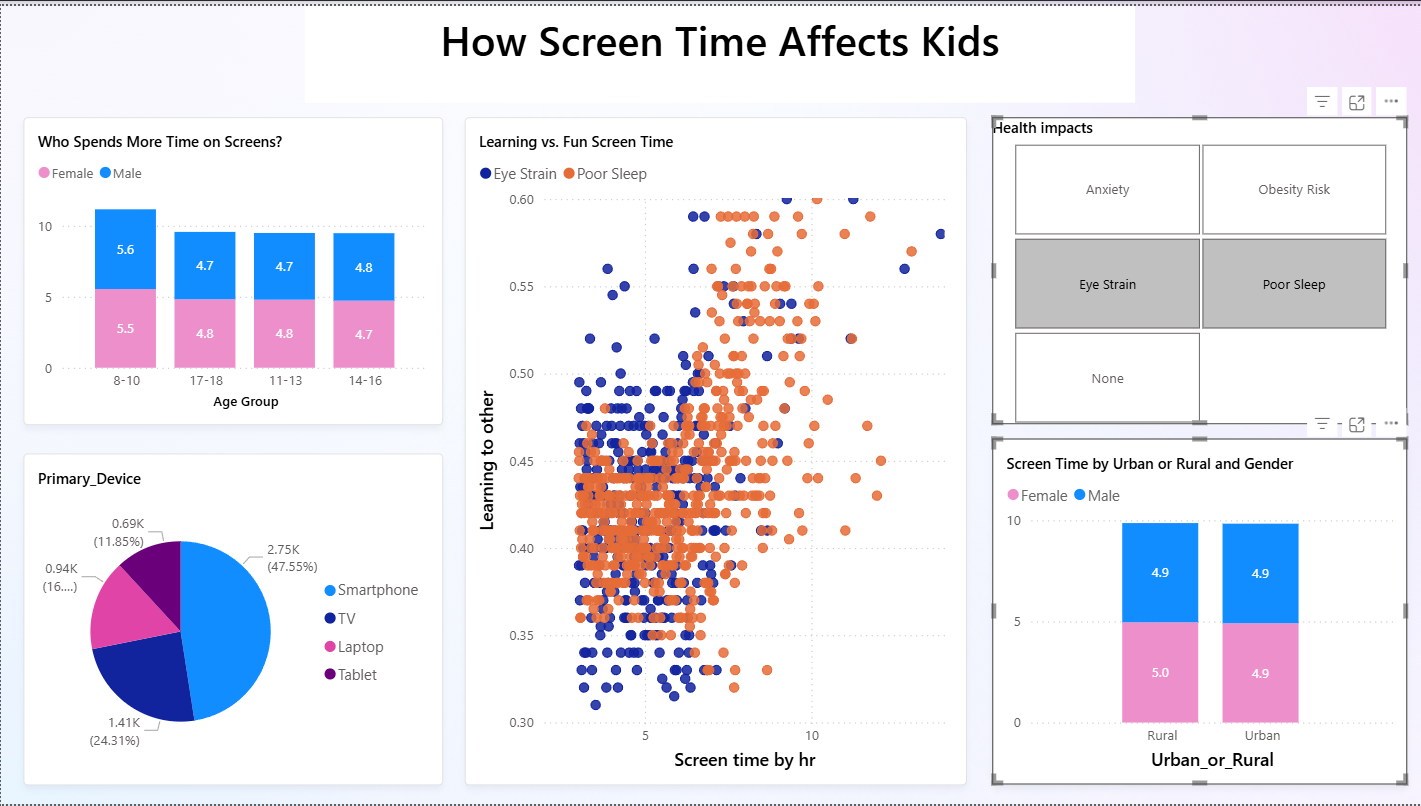

The page's visual inventory and layout, read from the dashboard file:
{"tool":"powerbi","page":{"name":"Page 1","canvas":[1280,720],"ordinal":0},"visuals":[{"type":"columnChart","title":"Who Spends More Time on Screens?","fields":{"Category":["Indian_Kids_Screen_Time.Age Group"],"Y":["Indian_Kids_Screen_Time.Avg Screen Time"],"Series":["Indian_Kids_Screen_Time.Gender"]},"box":[20.3,100.3,378.7,277.3],"z":0},{"type":"pieChart","title":"Primary_Device","fields":{"Category":["Indian_Kids_Screen_Time.Primary_Device"],"Y":["CountNonNull(Indian_Kids_Screen_Time.Primary_Device)"]},"box":[20.6,403.4,378.7,299.1],"z":1000},{"type":"scatterChart","title":"Learning vs. Fun Screen Time","fields":{"X":["Indian_Kids_Screen_Time.Avg_Daily_Screen_Time_hr"],"Y":["Median(Indian_Kids_Screen_Time.Educational_to_Recreational_Ratio)"],"Series":["Indian_Kids_Screen_Time.Health_Impacts.1"]},"box":[418.5,100.2,452.8,602.4],"z":2000},{"type":"columnChart","title":"Screen Time by Urban or Rural and Gender","fields":{"Category":["Indian_Kids_Screen_Time.Urban_or_Rural"],"Y":["Indian_Kids_Screen_Time.Avg Screen Time"],"Series":["Indian_Kids_Screen_Time.Gender"]},"box":[893.3,389.7,374.6,312.9],"z":3000},{"type":"textbox","box":[274,0,748.9,86.8],"z":4000},{"type":"slicer","title":"Health impacts","fields":{"Values":["Indian_Kids_Screen_Time.Health_Impacts.1"]},"box":[893.6,100.4,374.5,277.4],"z":5000}]}

Visuals, with their boxes on the page's 1280x720 design canvas (x1, y1, x2, y2). These are canvas units, not pixel positions in the 1421x806 screenshot, which may show the page scaled, cropped or inside an application window:
"Who Spends More Time on Screens?" columnChart: [20,100,399,378]
"Primary_Device" pieChart: [21,403,399,702]
"Learning vs. Fun Screen Time" scatterChart: [418,100,871,703]
"Screen Time by Urban or Rural and Gender" columnChart: [893,390,1268,703]
textbox: [274,0,1023,87]
"Health impacts" slicer: [894,100,1268,378]
